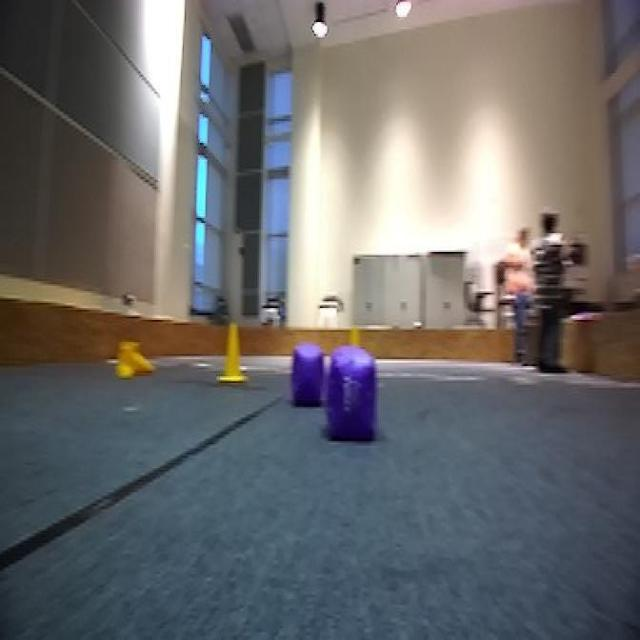frc_cone: (218, 320, 251, 385), (112, 335, 154, 383)
frc_cube: (323, 346, 379, 439), (293, 344, 324, 402)
